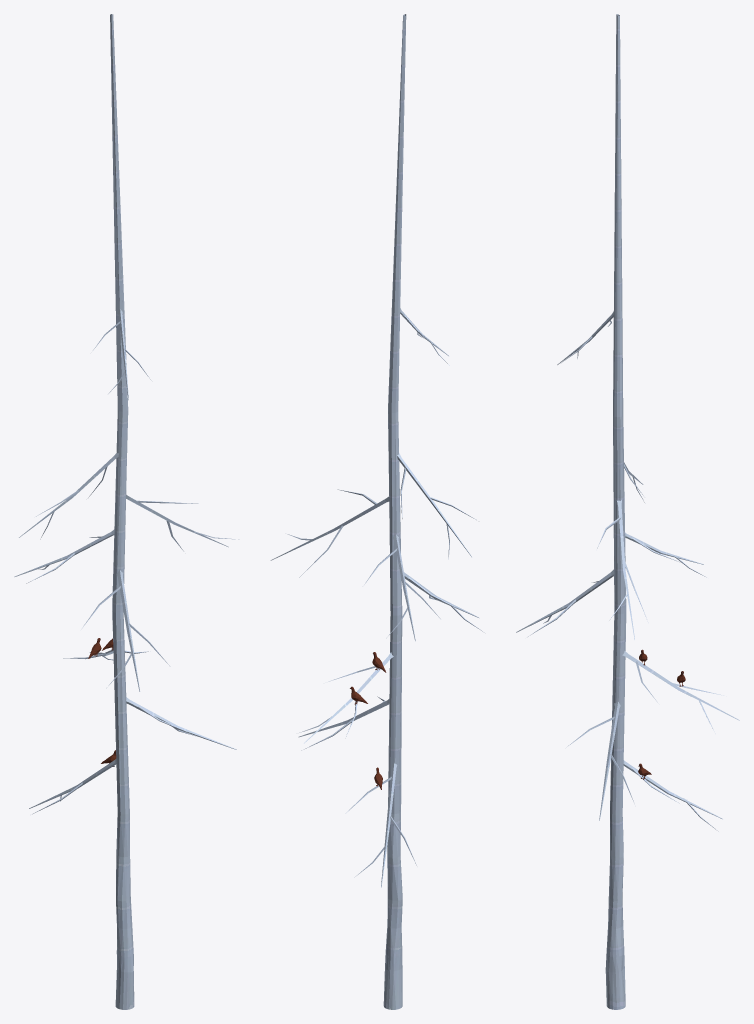
Rendered from Dynamic_Tree_07b.fbx.
3 renders of one model, left to right at view 1: azimuth 30°, elevation 25°; view 2: azimuth 150°, elevation 25°; view 3: azimuth 270°, elevation 25°, orthographic.
Parts seen in each view (by area): view 1: SM_Tree_07b_Dynamic.mo; view 2: SM_Tree_07b_Dynamic.mo; view 3: SM_Tree_07b_Dynamic.mo.
Part boxes in pixels (left/top/right/bottom): SM_Tree_07b_Dynamic.mo: left=14, top=14, right=239, bottom=1009; SM_Tree_07b_Dynamic.mo: left=270, top=14, right=484, bottom=1009; SM_Tree_07b_Dynamic.mo: left=516, top=14, right=739, bottom=1009.
Size of the model in its own units: 470 by 2166 by 446.
